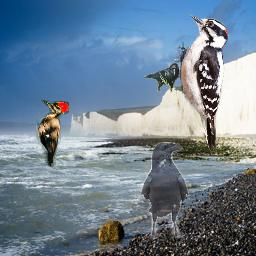Crow: (140, 142, 190, 239), (142, 63, 179, 93)
Woodpecker: (174, 14, 230, 154), (35, 100, 69, 167)
